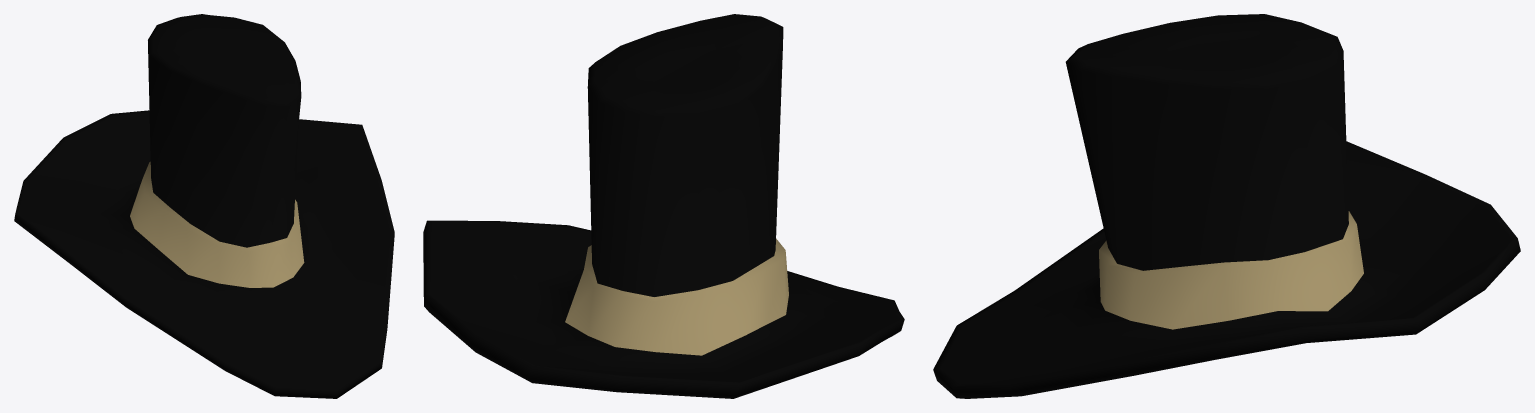
File: HtopHat.glb
The picture shows the model from 3 angles, left to right: view 1: azimuth 30°, elevation 25°; view 2: azimuth 150°, elevation 25°; view 3: azimuth 270°, elevation 25°; orthographic projection. The views are drawn at different scales.
Parts seen in each view (by area): view 1: HtopHat; view 2: HtopHat; view 3: HtopHat.
Boxes of the visible parts, left/top/right/bottom form: HtopHat: left=14, top=14, right=394, bottom=398; HtopHat: left=423, top=14, right=904, bottom=398; HtopHat: left=933, top=14, right=1520, bottom=398.
Size of the model in its own units: 0.4859 by 0.3624 by 0.5709.
